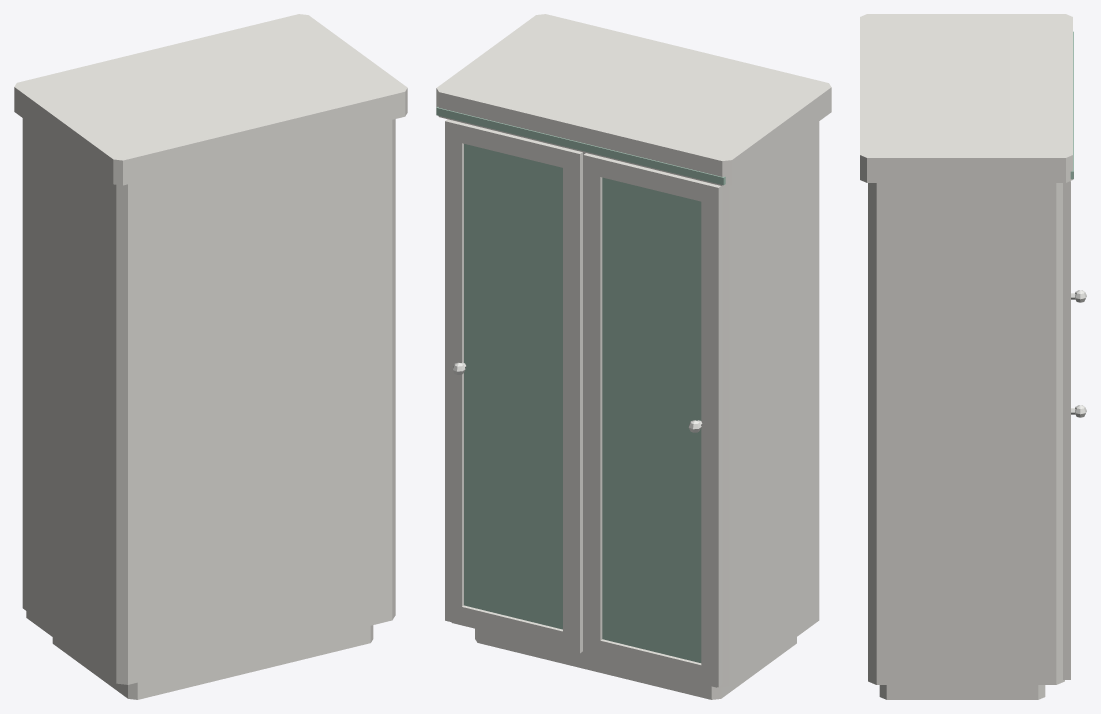
File: SM_LPI_Kids_Wardrobe_01.fbx
3 views of the same model, side by side, from view 1: azimuth 30°, elevation 25°; view 2: azimuth 150°, elevation 25°; view 3: azimuth 270°, elevation 25° (orthographic).
Visible parts, largest first — view 1: SM_LPI_Kids_Wardrobe_01; view 2: SM_LPI_Kids_Wardrobe_01; view 3: SM_LPI_Kids_Wardrobe_01.
Boxes of the visible parts, x1,y1,x2,y2 form: SM_LPI_Kids_Wardrobe_01: (14,14,407,699); SM_LPI_Kids_Wardrobe_01: (436,14,831,699); SM_LPI_Kids_Wardrobe_01: (860,14,1086,699).
Bounding box in the file's own units: 0.864 × 1.55 × 0.5756.
